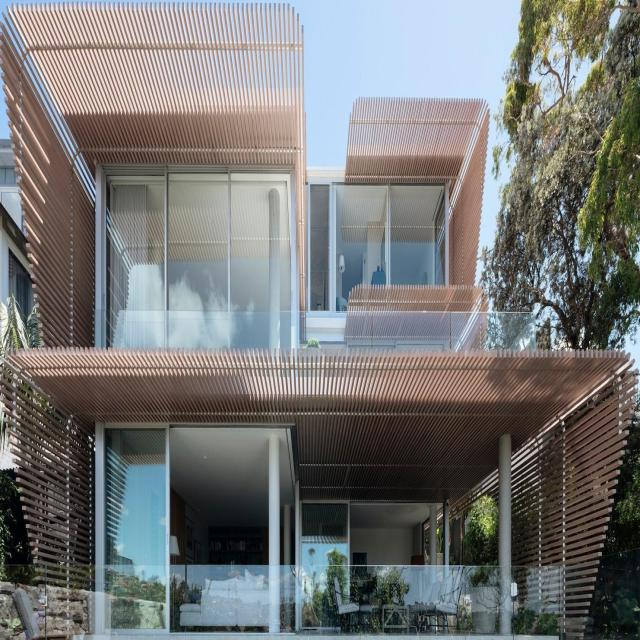door: (99, 422, 171, 570)
railing: (89, 567, 564, 637), (82, 310, 535, 350)
window: (97, 166, 296, 311), (310, 182, 449, 314), (297, 505, 351, 564)
